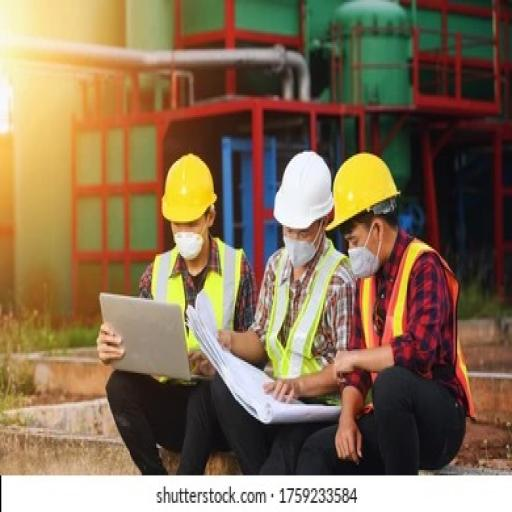mask: (280, 235, 320, 269), (346, 248, 382, 283), (171, 229, 209, 260)
